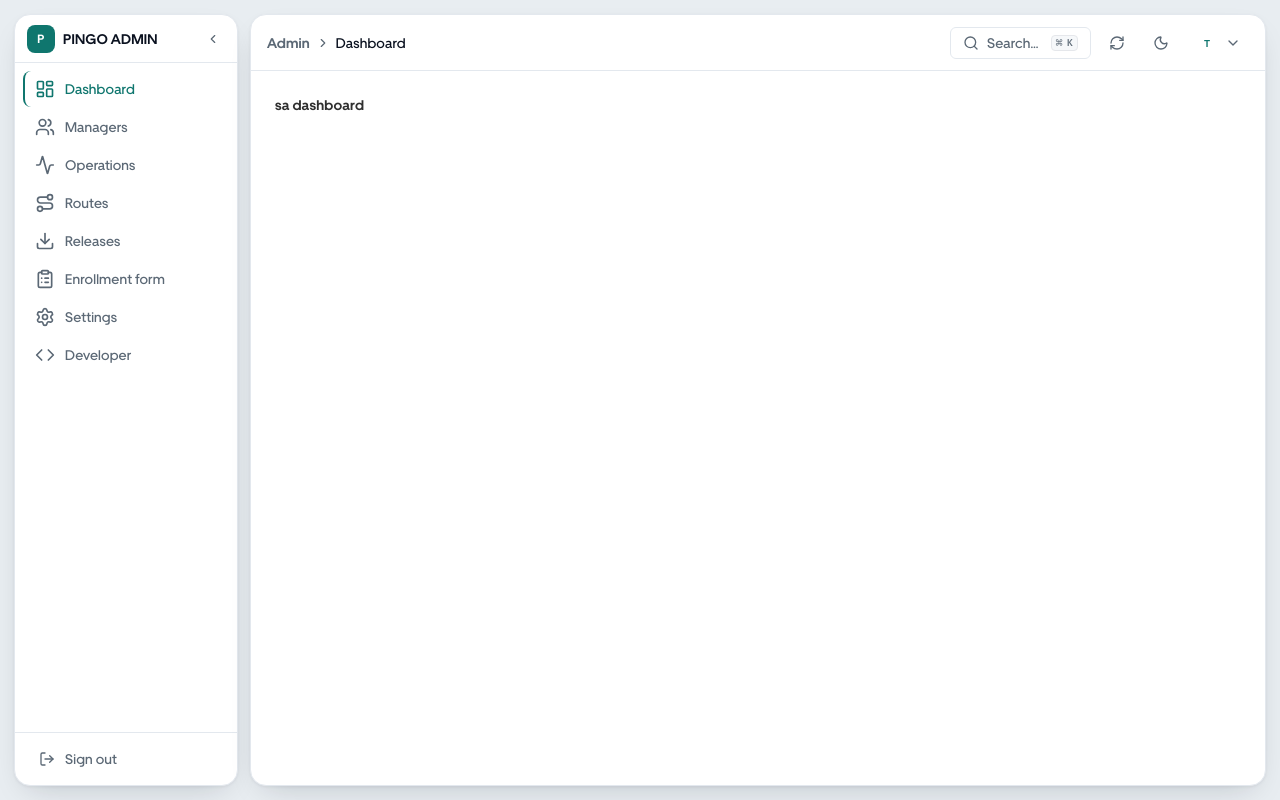
AppShell › collapses the sidebar and persists to localStorage
The width and height of the screenshot is (1280, 800).
Expected: the text "PINGO ADMIN" is shown, [63,28,158,48]
Click the button named "Collapse sidebar".
click(213, 38)  # box [201,26,225,50]
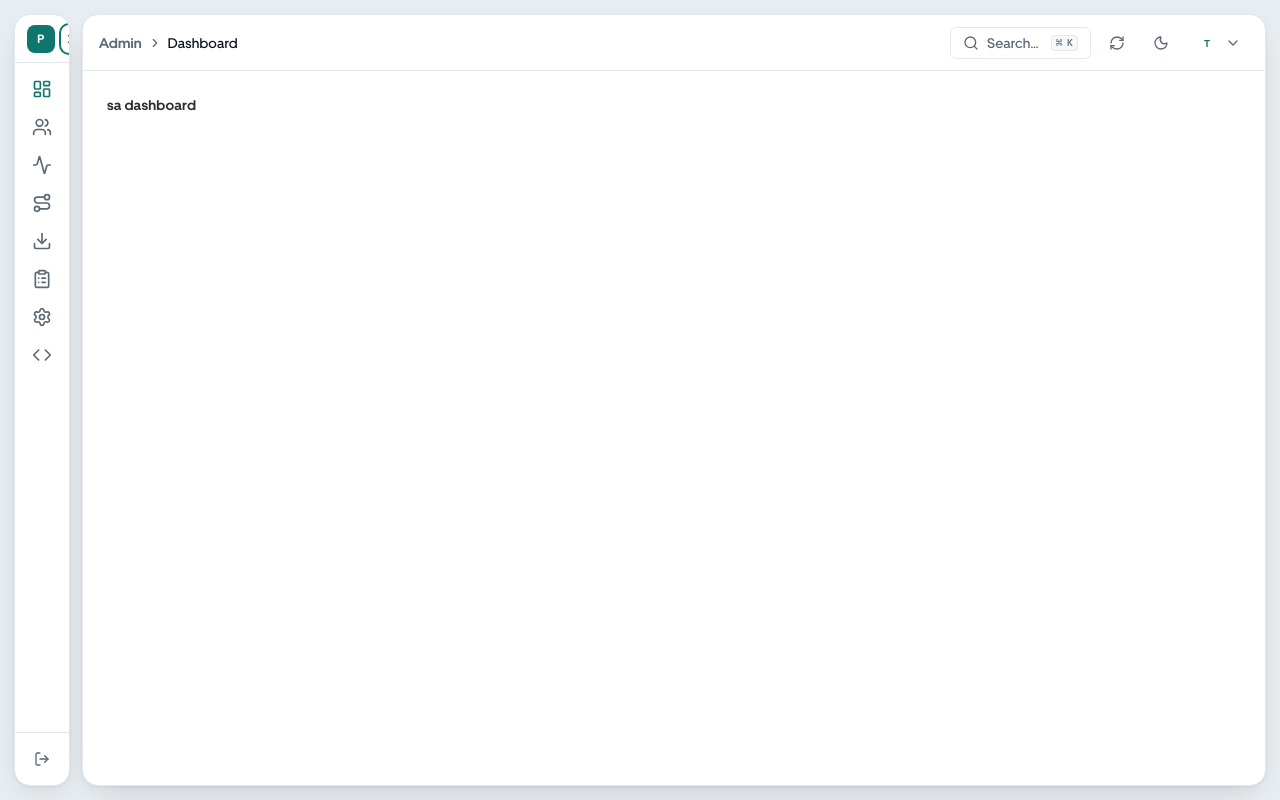
Now the text "PINGO ADMIN" is gone
